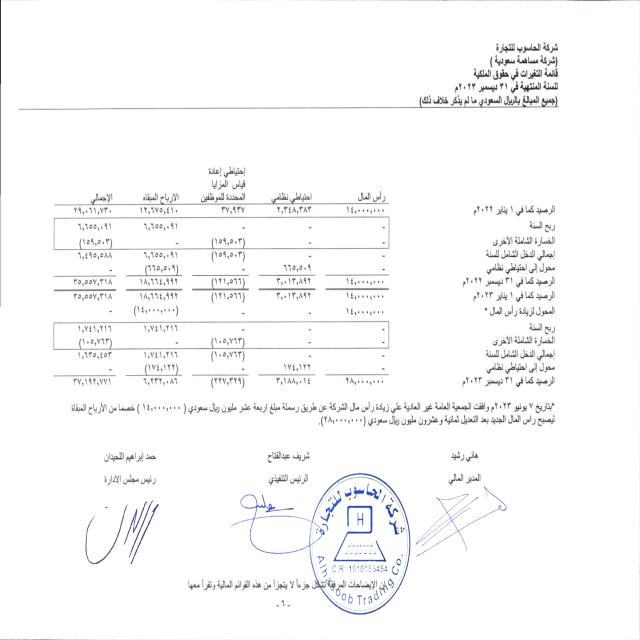financial_sheets: (466, 65, 558, 81)
table: (46, 151, 402, 395)
